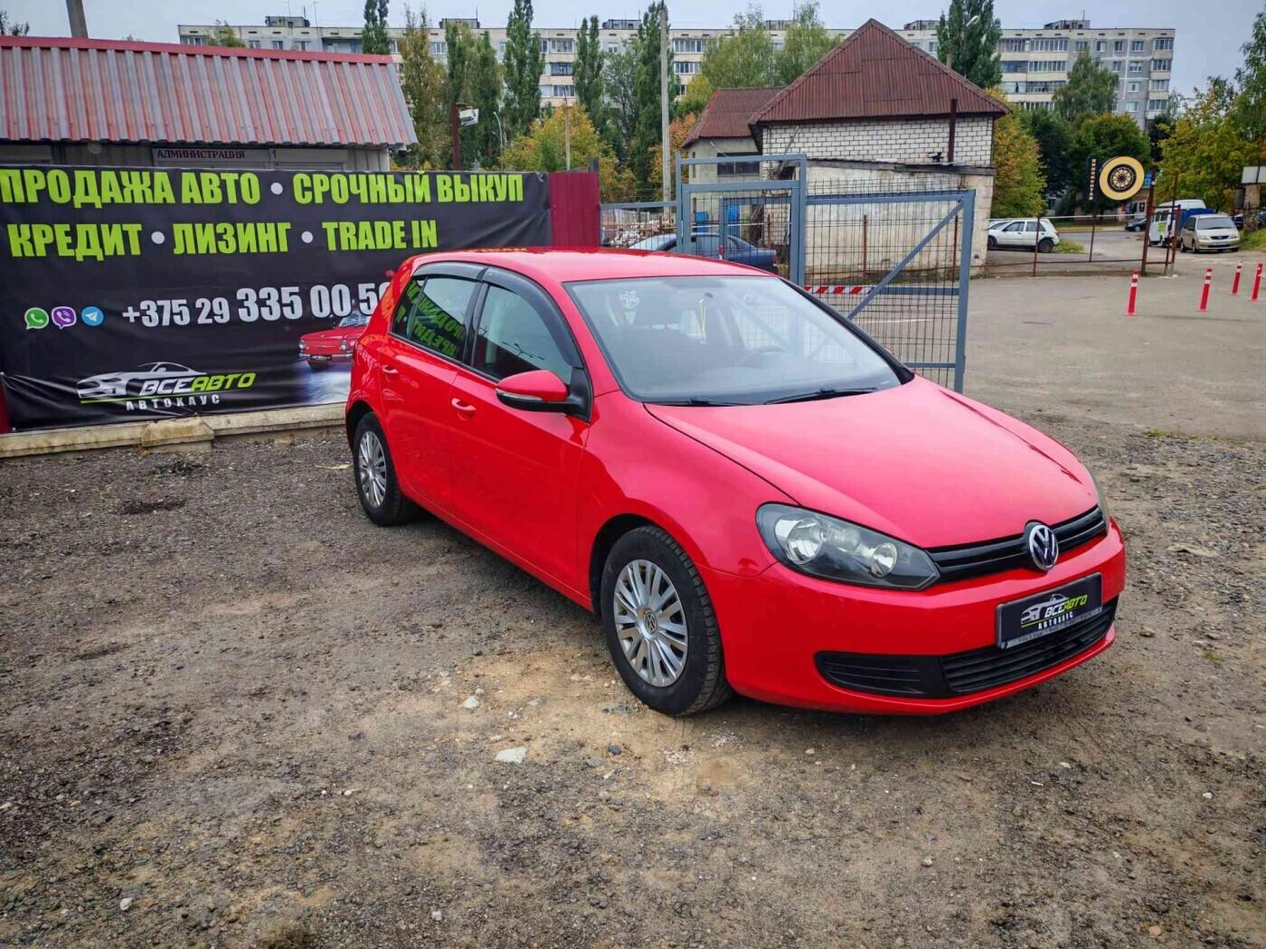Golf_2008-2013: (342, 241, 1137, 723)
